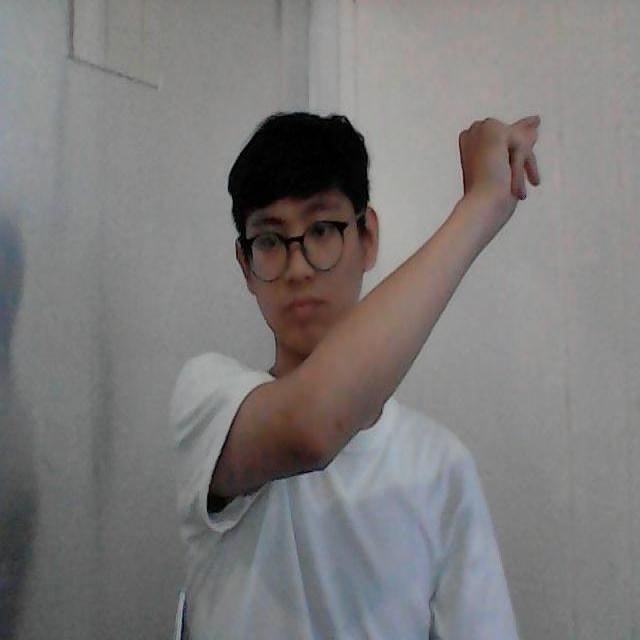R: (444, 95, 566, 230)
